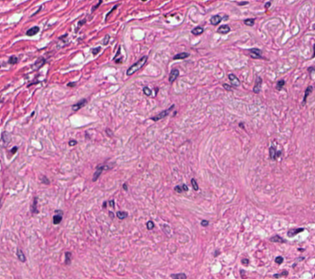nucleus: (126, 56, 147, 75), (151, 104, 174, 120), (92, 164, 105, 180), (269, 144, 281, 159), (32, 57, 45, 69), (72, 99, 86, 110), (168, 68, 178, 82), (228, 74, 239, 86), (303, 86, 311, 102), (287, 228, 303, 236), (253, 77, 261, 92), (53, 210, 61, 224), (249, 48, 261, 57), (173, 52, 188, 59), (270, 235, 284, 242), (273, 270, 287, 277), (116, 211, 127, 219), (191, 178, 198, 190), (276, 79, 284, 89), (32, 197, 37, 213), (170, 273, 186, 278), (40, 176, 49, 184), (65, 252, 71, 264), (143, 87, 151, 95), (174, 185, 183, 192), (146, 220, 153, 229), (274, 256, 283, 263), (92, 47, 100, 54), (103, 35, 109, 44), (108, 200, 114, 207), (201, 220, 208, 226), (241, 258, 248, 264), (223, 84, 231, 89), (68, 140, 76, 145), (181, 184, 187, 190), (123, 183, 127, 189), (109, 211, 113, 217), (67, 83, 74, 86), (239, 123, 243, 128), (102, 202, 106, 207)
